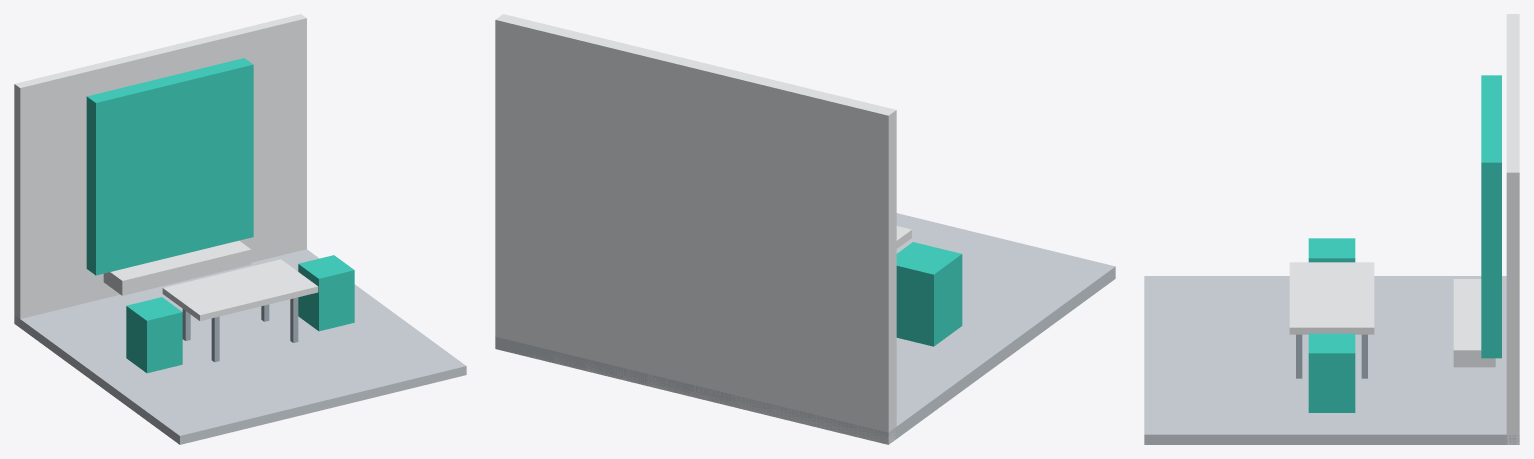
3 renders of one model, left to right at view 1: azimuth 30°, elevation 25°; view 2: azimuth 150°, elevation 25°; view 3: azimuth 270°, elevation 25°, orthographic. The views are drawn at different scales.
Visible parts, largest first — view 1: Exhibition Booth Concept; view 2: Exhibition Booth Concept; view 3: Exhibition Booth Concept.
Part boxes in pixels (bbox=[...]): Exhibition Booth Concept: bbox=[14, 14, 466, 444]; Exhibition Booth Concept: bbox=[495, 14, 1115, 444]; Exhibition Booth Concept: bbox=[1144, 14, 1519, 444].
Size of the model in its own units: 4 by 3.2 by 4.
